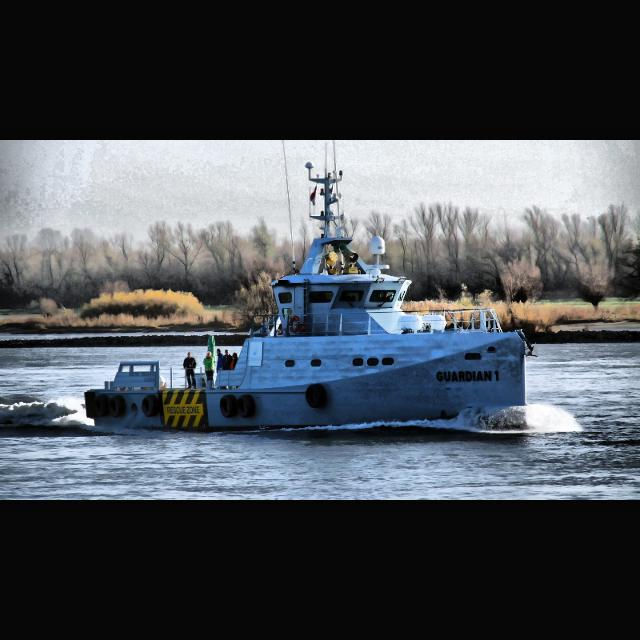patrol_vessel: (83, 160, 543, 434)
